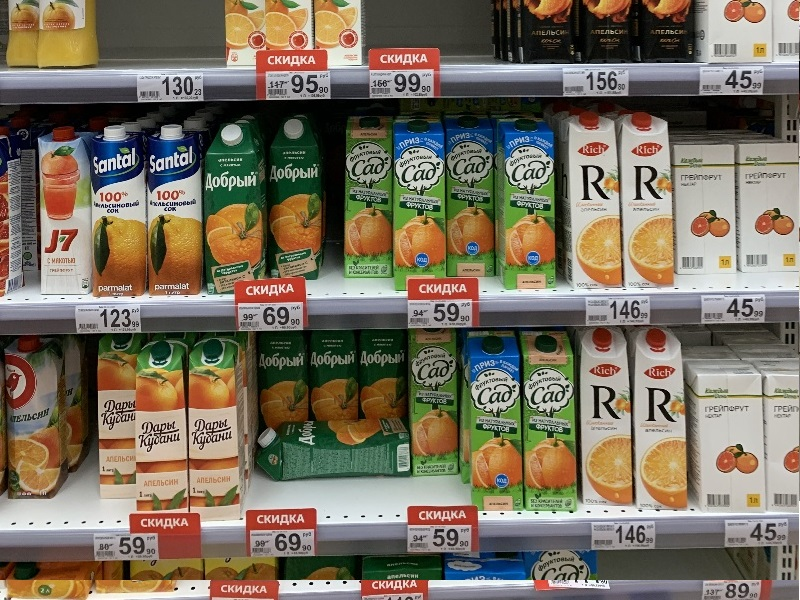juice: (567, 324, 645, 517), (510, 327, 586, 517), (122, 340, 198, 526), (607, 109, 684, 290), (629, 322, 700, 518), (179, 337, 250, 530), (136, 121, 211, 303), (458, 328, 529, 520), (558, 109, 631, 295), (488, 114, 562, 295), (2, 334, 76, 509), (82, 126, 155, 303), (197, 124, 272, 292), (335, 111, 398, 280), (260, 122, 326, 282), (390, 117, 448, 294), (439, 111, 500, 274), (40, 126, 93, 300), (413, 322, 466, 481)
